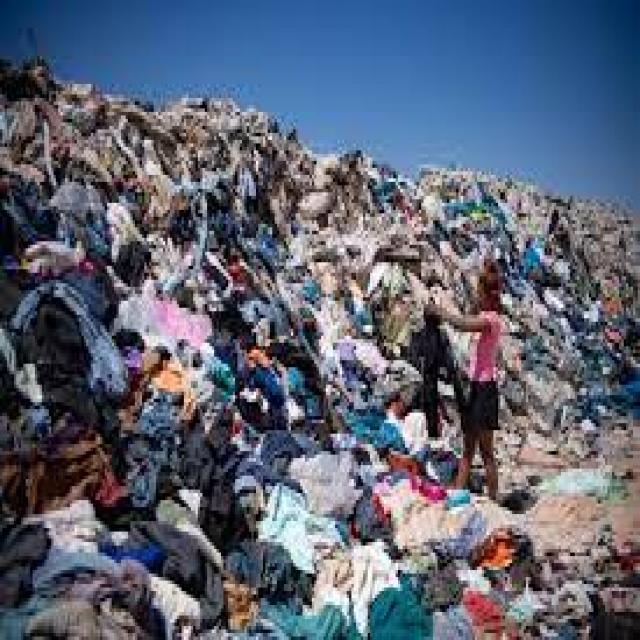Clothes -Biodegradable-: (0, 63, 640, 640)
